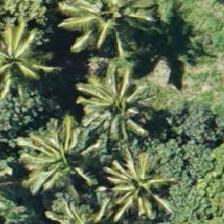coconut_tree: (53, 81, 143, 171), (22, 119, 112, 209), (95, 132, 185, 222), (53, 0, 143, 51), (0, 7, 50, 97)
